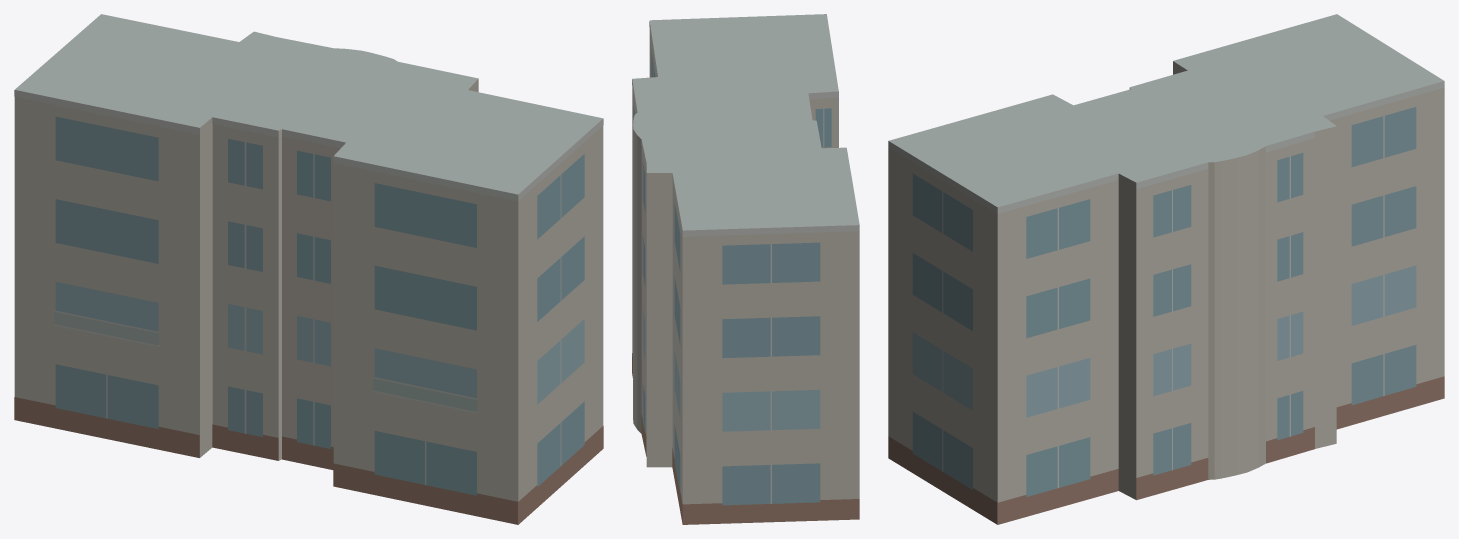
Rendered from survey-upis-32985772.glb.
3 renders of one model, left to right at view 1: azimuth 30°, elevation 25°; view 2: azimuth 150°, elevation 25°; view 3: azimuth 270°, elevation 25°, orthographic. The views are drawn at different scales.
Visible parts, largest first — view 1: survey-upis-32985772.tmp; view 2: survey-upis-32985772.tmp; view 3: survey-upis-32985772.tmp.
Boxes of the visible parts, x1,y1,x2,y2 form: survey-upis-32985772.tmp: [14, 14, 603, 524]; survey-upis-32985772.tmp: [632, 14, 859, 524]; survey-upis-32985772.tmp: [888, 14, 1444, 524].
Bounding box in the file's own units: 15.43 × 11.8 × 18.74.
